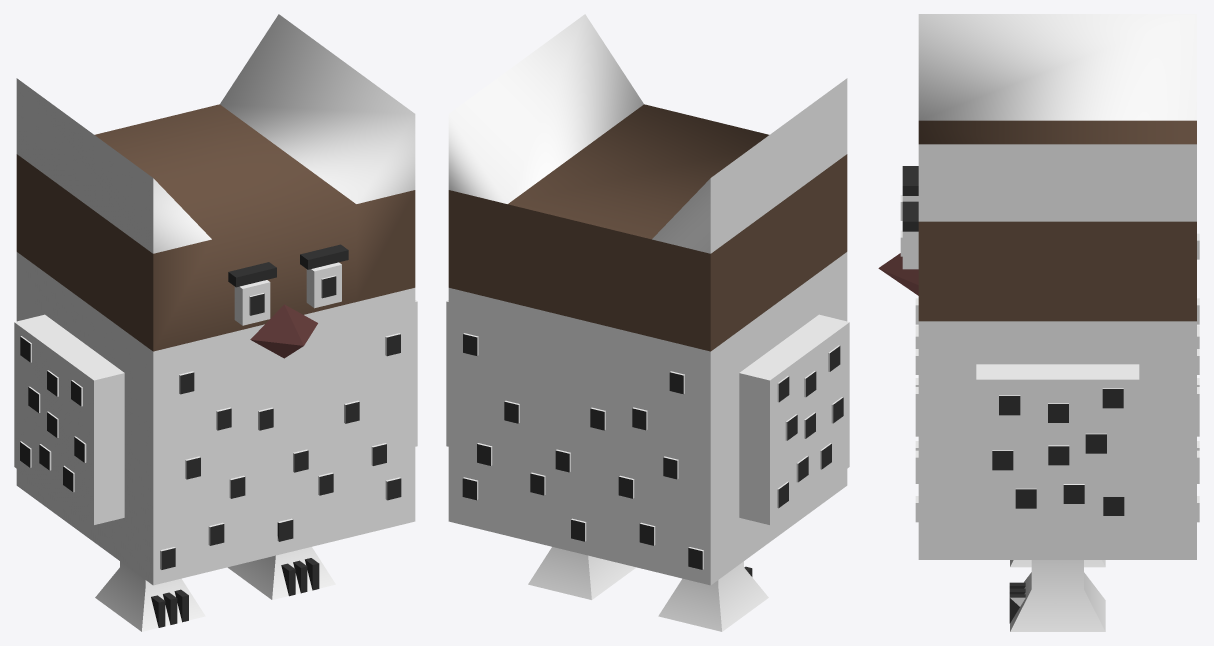
File: owl optimized.fbx
The picture shows the model from 3 angles, left to right: view 1: azimuth 30°, elevation 25°; view 2: azimuth 150°, elevation 25°; view 3: azimuth 270°, elevation 25°; orthographic projection.
Parts seen in each view (by area): view 1: Lowpoly_Christmas_Pack_090:group2; view 2: Lowpoly_Christmas_Pack_090:group2; view 3: Lowpoly_Christmas_Pack_090:group2.
Boxes of the visible parts, x1,y1,x2,y2 form: Lowpoly_Christmas_Pack_090:group2: (14,14,417,631); Lowpoly_Christmas_Pack_090:group2: (446,14,849,631); Lowpoly_Christmas_Pack_090:group2: (878,14,1199,631).
Size of the model in its own units: 1.38 by 2 by 1.15.
